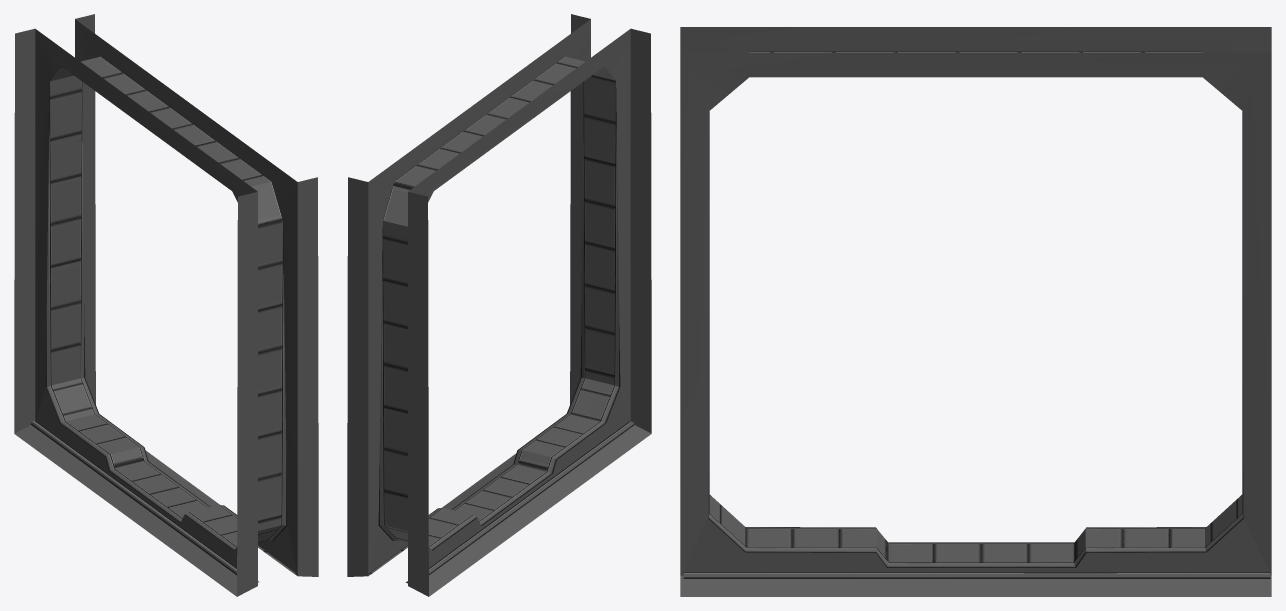
File: Connectorpiece.fbx
The picture shows the model from 3 angles, left to right: view 1: azimuth 30°, elevation 25°; view 2: azimuth 150°, elevation 25°; view 3: azimuth 270°, elevation 25°; orthographic projection. The views are drawn at different scales.
Parts seen in each view (by area): view 1: ConnectorPiece; view 2: ConnectorPiece; view 3: ConnectorPiece.
Part boxes in pixels (bbox=[...]): ConnectorPiece: bbox=[14, 14, 318, 596]; ConnectorPiece: bbox=[347, 14, 651, 596]; ConnectorPiece: bbox=[680, 27, 1271, 596].
Size of the model in its own units: 5.77 by 27.01 by 27.28.
